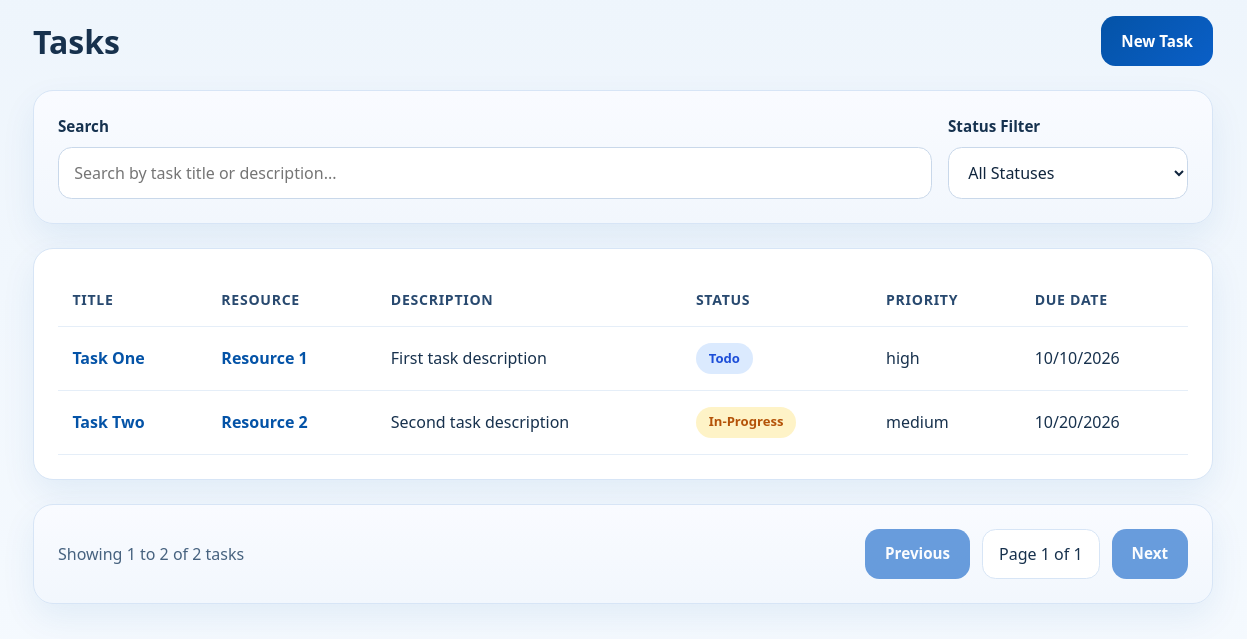
Test: Tasks Page › search input refreshes the table with matching tasks
Expected: the link "Task One" is shown, [72,347,145,369]
Expected: the link "Task Two" is shown, [72,411,145,433]
In the field with placeholder "Search by task title or description...": (495, 173) [58,147,932,199], type "Two"
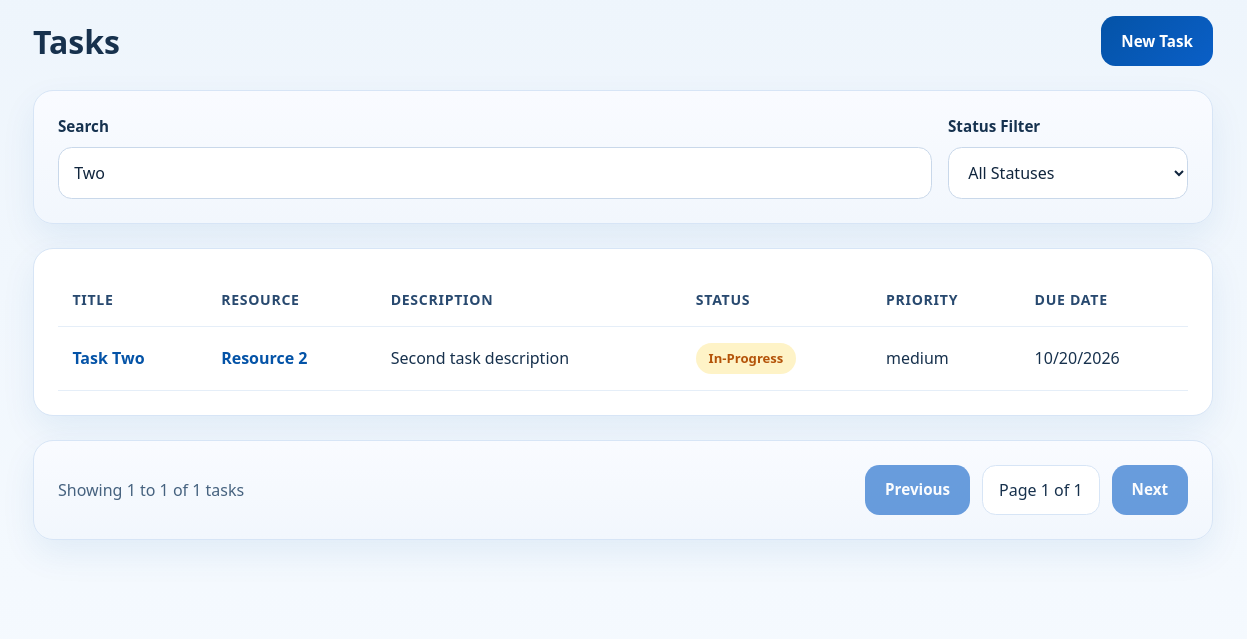
Expected: the link "Task Two" is shown, [72,347,145,369]
Expected: the link "Task One" is gone
